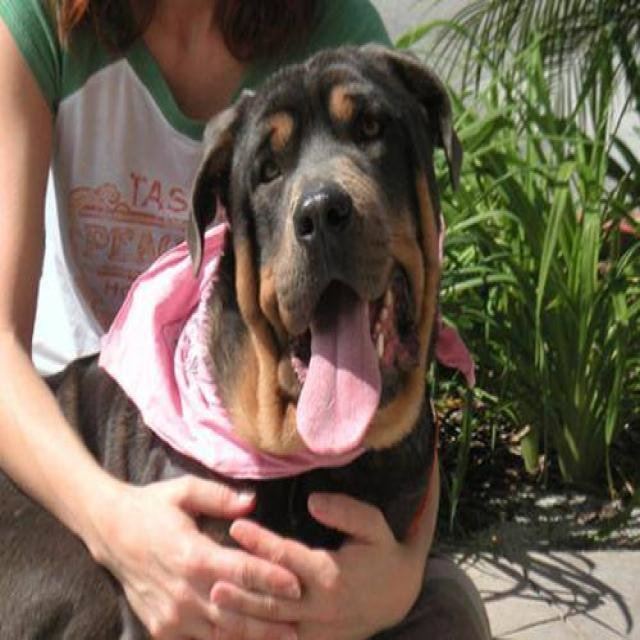adult_dog: (2, 42, 472, 640)
non-dog: (2, 2, 494, 640)
